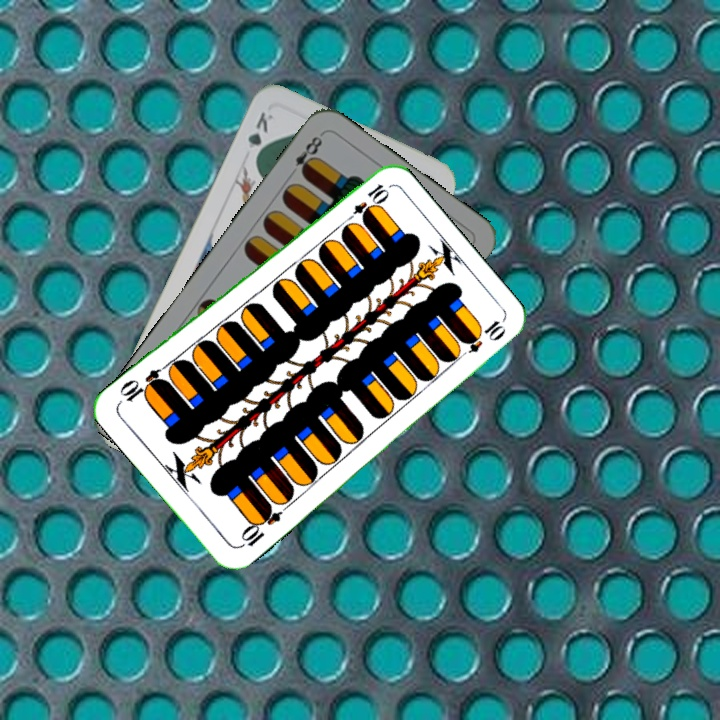E10: (340, 180, 391, 228), (235, 502, 284, 551)
E8: (284, 130, 326, 179)
GK: (243, 107, 276, 165)
